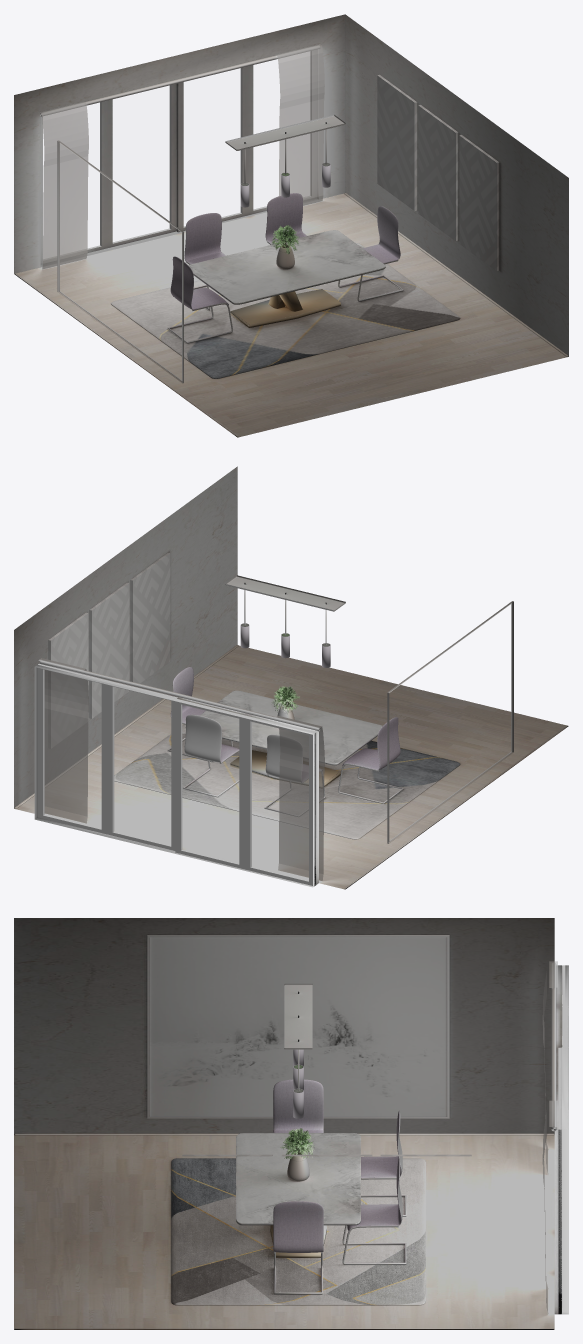
The picture shows the model from 3 angles, top to bottom: view 1: azimuth 30°, elevation 25°; view 2: azimuth 150°, elevation 25°; view 3: azimuth 270°, elevation 25°; orthographic projection. The views are drawn at different scales.
Parts seen in each view (by area): view 1: Walls_Walls_0_6, Modern_Dining_Room_Floor_0_4, Carpet_Carpet_0_37, DiningTable_DiningTable_0_21, Paintings_Paintings_0_29, Curtains_Curtains_0_27, DoorFrame_DoorFrame_0_17, LightChrome_LightChrome_0_39, PictureFrame_PictureFrame_0_31, CurtainPole_CurtainPole_0_25, LightGlass_Lights_0_41, Plant_Plant_0_35; view 2: Modern_Dining_Room_Floor_0_4, Walls_Walls_0_6, Carpet_Carpet_0_37, DoorFrame_DoorFrame_0_17, Paintings_Paintings_0_29, DiningTable_DiningTable_0_21, Curtains_Curtains_0_27, LightChrome_LightChrome_0_39, PictureFrame_PictureFrame_0_31, CurtainPole_CurtainPole_0_25, LightGlass_Lights_0_41; view 3: Modern_Dining_Room_Floor_0_4, Walls_Walls_0_6, Picture_Picture_0_33, Carpet_Carpet_0_37, DiningTable_DiningTable_0_21, DoorFrame_DoorFrame_0_17, PictureFrame_PictureFrame_0_31, LightChrome_LightChrome_0_39, Curtains_Curtains_0_27, CurtainPole_CurtainPole_0_25, Paintings_Paintings_0_29, Plant_Plant_0_35 (+1 smaller).
Part boxes in pixels (x1=…): Walls_Walls_0_6: x1=14, y1=14, x2=568, y2=356; Modern_Dining_Room_Floor_0_4: x1=14, y1=193, x2=568, y2=437; Carpet_Carpet_0_37: x1=111, y1=242, x2=460, y2=378; DiningTable_DiningTable_0_21: x1=167, y1=193, x2=403, y2=343; Paintings_Paintings_0_29: x1=377, y1=74, x2=499, y2=270; Curtains_Curtains_0_27: x1=40, y1=44, x2=324, y2=269; DoorFrame_DoorFrame_0_17: x1=40, y1=49, x2=318, y2=267; LightChrome_LightChrome_0_39: x1=225, y1=114, x2=345, y2=185; PictureFrame_PictureFrame_0_31: x1=57, y1=140, x2=183, y2=383; CurtainPole_CurtainPole_0_25: x1=40, y1=45, x2=319, y2=116; LightGlass_Lights_0_41: x1=240, y1=162, x2=330, y2=207; Plant_Plant_0_35: x1=271, y1=225, x2=298, y2=253; Modern_Dining_Room_Floor_0_4: x1=14, y1=645, x2=568, y2=889; Walls_Walls_0_6: x1=14, y1=466, x2=237, y2=808; Carpet_Carpet_0_37: x1=114, y1=724, x2=460, y2=839; DoorFrame_DoorFrame_0_17: x1=34, y1=663, x2=318, y2=887; Paintings_Paintings_0_29: x1=48, y1=552, x2=170, y2=748; DiningTable_DiningTable_0_21: x1=167, y1=666, x2=403, y2=816; Curtains_Curtains_0_27: x1=38, y1=658, x2=324, y2=880; LightChrome_LightChrome_0_39: x1=225, y1=575, x2=345, y2=646; PictureFrame_PictureFrame_0_31: x1=387, y1=601, x2=513, y2=843; CurtainPole_CurtainPole_0_25: x1=40, y1=660, x2=320, y2=731; LightGlass_Lights_0_41: x1=240, y1=623, x2=330, y2=667; Modern_Dining_Room_Floor_0_4: x1=14, y1=1133, x2=554, y2=1329; Walls_Walls_0_6: x1=14, y1=918, x2=554, y2=1134; Picture_Picture_0_33: x1=150, y1=937, x2=447, y2=1116; Carpet_Carpet_0_37: x1=171, y1=1158, x2=425, y2=1305; DiningTable_DiningTable_0_21: x1=236, y1=1079, x2=406, y2=1294; DoorFrame_DoorFrame_0_17: x1=554, y1=965, x2=568, y2=1314; PictureFrame_PictureFrame_0_31: x1=147, y1=935, x2=449, y2=1118; LightChrome_LightChrome_0_39: x1=284, y1=983, x2=312, y2=1092; Curtains_Curtains_0_27: x1=542, y1=961, x2=557, y2=1313; CurtainPole_CurtainPole_0_25: x1=551, y1=962, x2=556, y2=1131; Paintings_Paintings_0_29: x1=182, y1=1154, x2=471, y2=1156; Plant_Plant_0_35: x1=280, y1=1128, x2=315, y2=1159.
Bounding box in the file's own units: 5.7 × 2.95 × 6.84.
16 materials, 14 textured.
